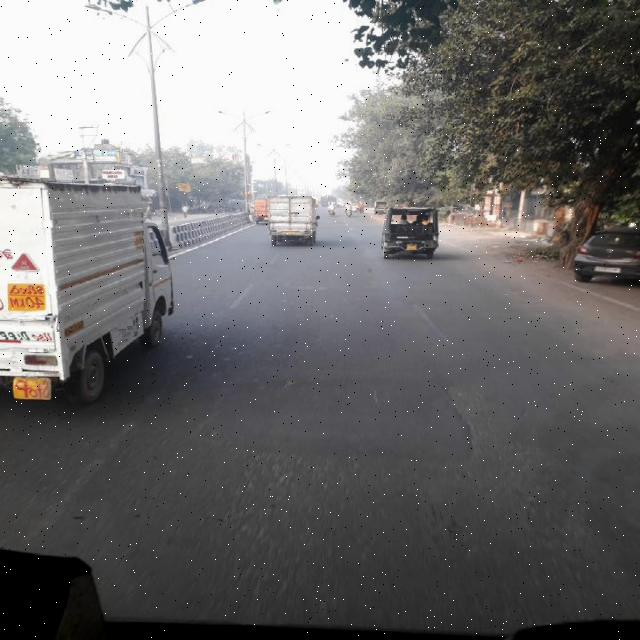D44: (37, 380, 161, 532)
